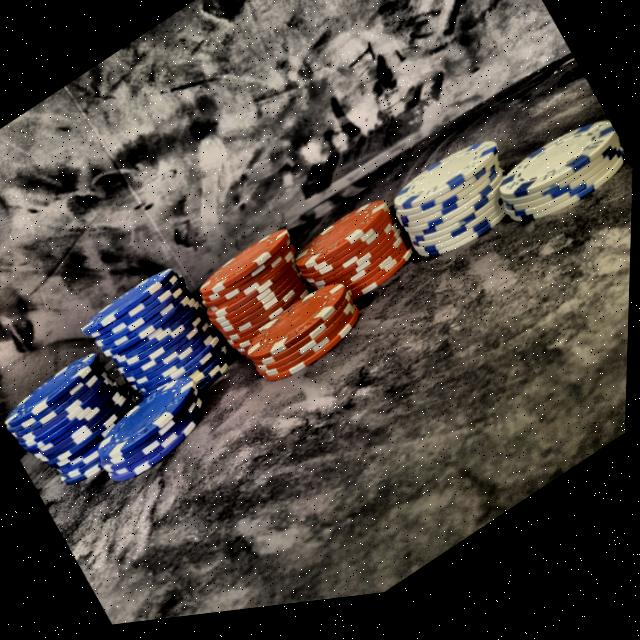Chip: (78, 257, 243, 447), (367, 118, 540, 299), (0, 333, 159, 519), (184, 211, 343, 382), (479, 110, 636, 265), (277, 185, 424, 342), (80, 361, 224, 500), (233, 278, 375, 411)
